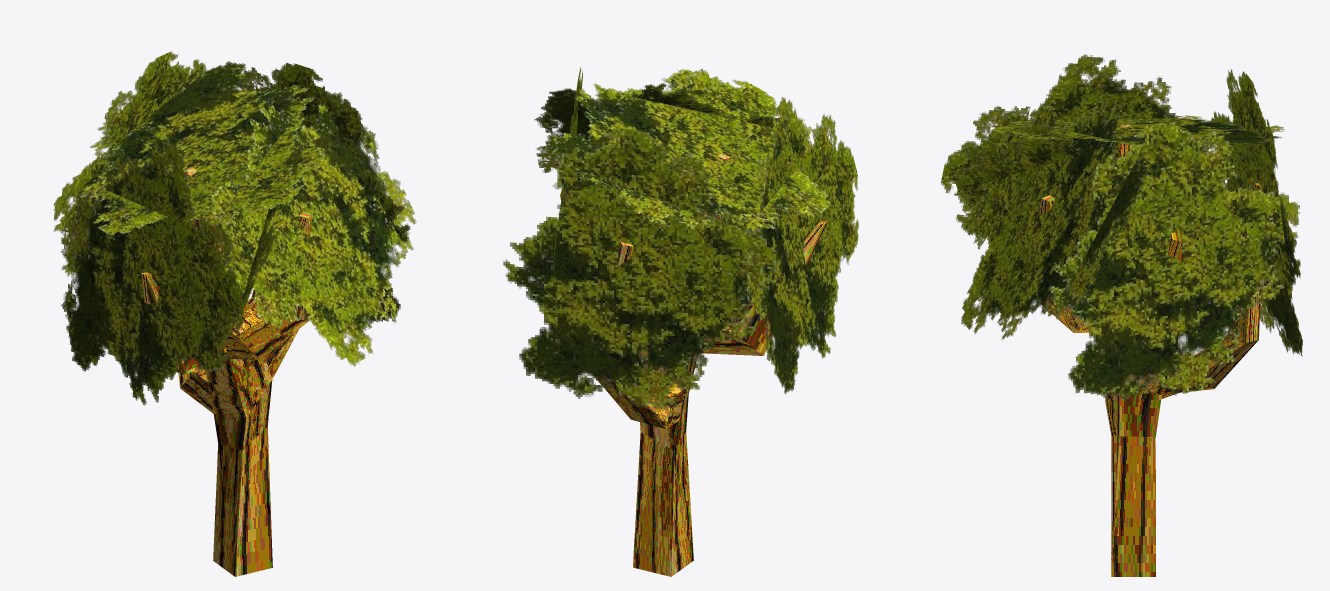
File: tree.glb
The picture shows the model from 3 angles, left to right: view 1: azimuth 30°, elevation 25°; view 2: azimuth 150°, elevation 25°; view 3: azimuth 270°, elevation 25°; orthographic projection. The views are drawn at different scales.
Visible parts, largest first — view 1: Plane.002, Plane, Plane.003, Cube, Plane.001, Plane.004, Plane.005; view 2: Plane.001, Plane.003, Plane.002, Cube, Plane, Plane.005, Plane.004; view 3: Plane.004, Plane, Cube, Plane.002, Plane.001, Plane.005, Plane.003.
Part boxes in pixels (box(x1,y1,x2,y2)): Plane.002: box(61, 141, 243, 404); Plane: box(211, 91, 416, 366); Plane.003: box(80, 61, 325, 235); Cube: box(141, 167, 311, 576); Plane.001: box(53, 51, 206, 276); Plane.004: box(216, 62, 410, 323); Plane.005: box(217, 142, 302, 329); Plane.001: box(503, 128, 778, 409); Plane.003: box(545, 69, 832, 229); Plane.002: box(746, 97, 858, 394); Cube: box(560, 154, 828, 576); Plane: box(534, 83, 814, 172); Plane.005: box(675, 68, 812, 322); Plane.004: box(552, 67, 582, 269); Plane.004: box(1048, 122, 1299, 401); Plane: box(961, 101, 1147, 339); Cube: box(1036, 124, 1261, 576); Plane.002: box(940, 54, 1226, 234); Plane.001: box(1211, 69, 1302, 356); Plane.005: box(955, 121, 1118, 257); Plane.003: box(993, 115, 1284, 145).
Size of the model in its own units: 2.57 by 3.65 by 2.73.
2 materials, 2 textured.
